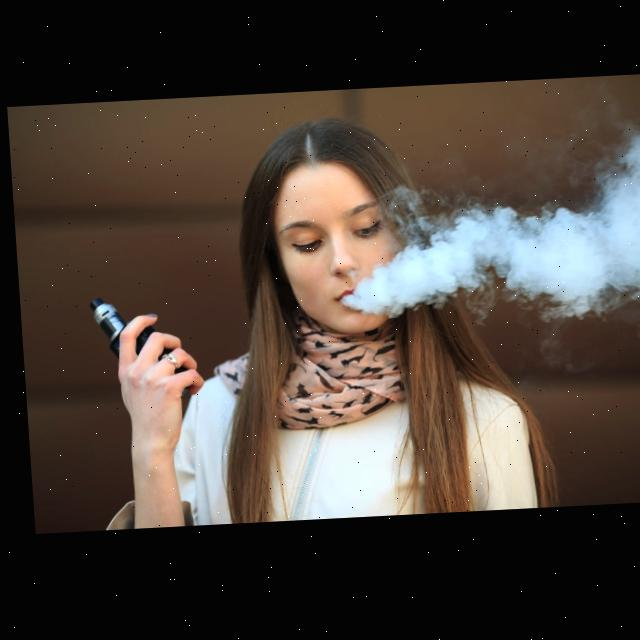vape: (86, 295, 177, 378)
